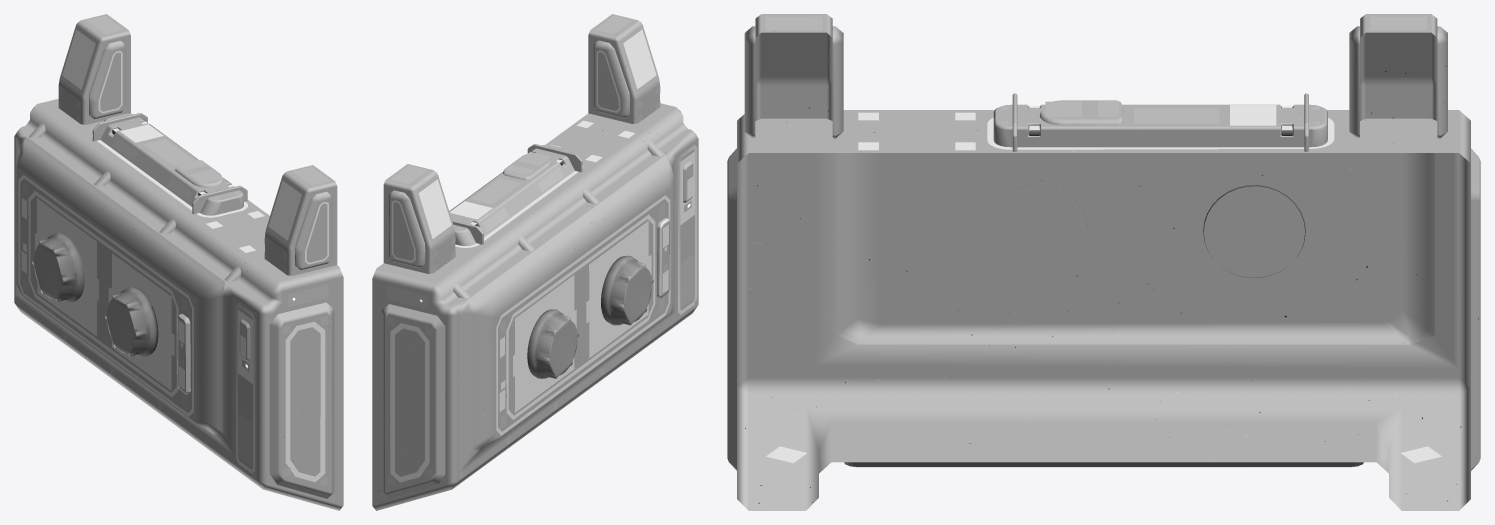
Rendered from SM_Pump_2_Merged.fbx.
3 views of the same model, side by side, from view 1: azimuth 30°, elevation 25°; view 2: azimuth 150°, elevation 25°; view 3: azimuth 270°, elevation 25° (orthographic). The views are drawn at different scales.
Visible parts, largest first — view 1: SM_Pump_2_Merged_LOD0; view 2: SM_Pump_2_Merged_LOD0; view 3: SM_Pump_2_Merged_LOD0.
Boxes of the visible parts, <box> form: SM_Pump_2_Merged_LOD0: <box>14,14,343,510</box>; SM_Pump_2_Merged_LOD0: <box>372,14,698,510</box>; SM_Pump_2_Merged_LOD0: <box>727,14,1480,510</box>.
Bounding box in the file's own units: 110 × 407 × 285.
